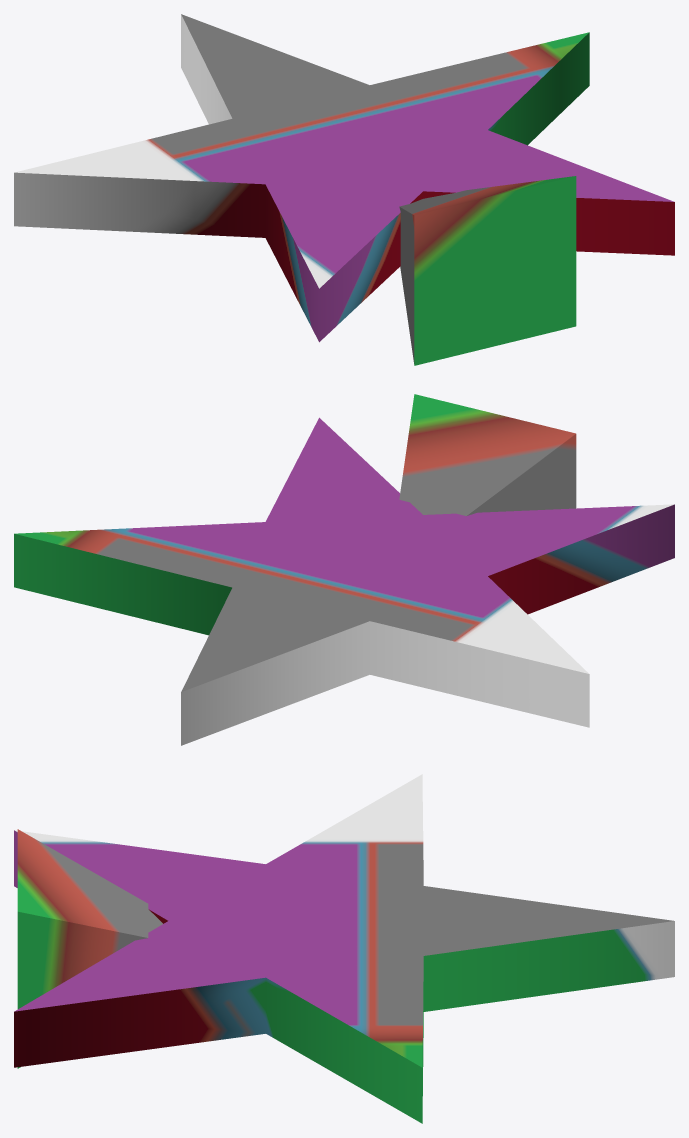
The model's file is Christmas_star.fbx.
3 renders of one model, top to bottom at view 1: azimuth 30°, elevation 25°; view 2: azimuth 150°, elevation 25°; view 3: azimuth 270°, elevation 25°, orthographic. The views are drawn at different scales.
Visible parts, largest first — view 1: Christmas_star; view 2: Christmas_star; view 3: Christmas_star.
Boxes of the visible parts, bbox=[...] form: Christmas_star: bbox=[14, 14, 674, 365]; Christmas_star: bbox=[14, 394, 674, 745]; Christmas_star: bbox=[14, 774, 674, 1123].
Bounding box in the file's own units: 48.71 × 12.17 × 46.33.
